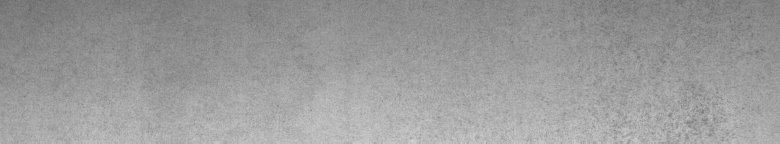ib: (668, 49, 763, 136)
